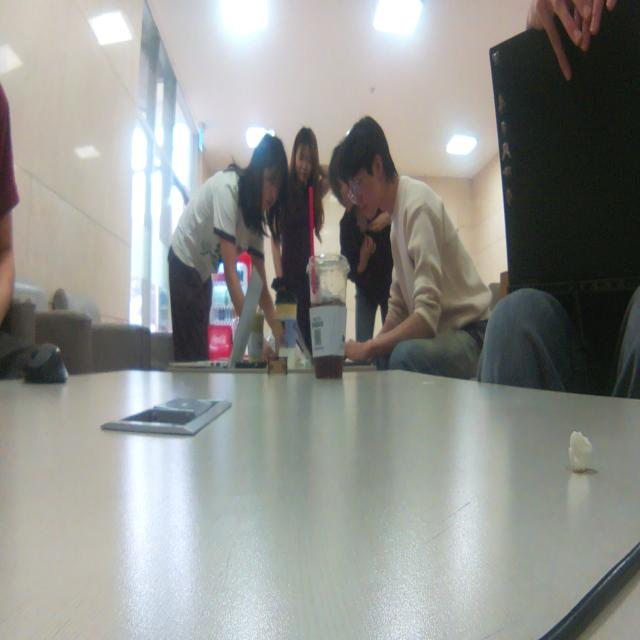target: (266, 319, 288, 377)
